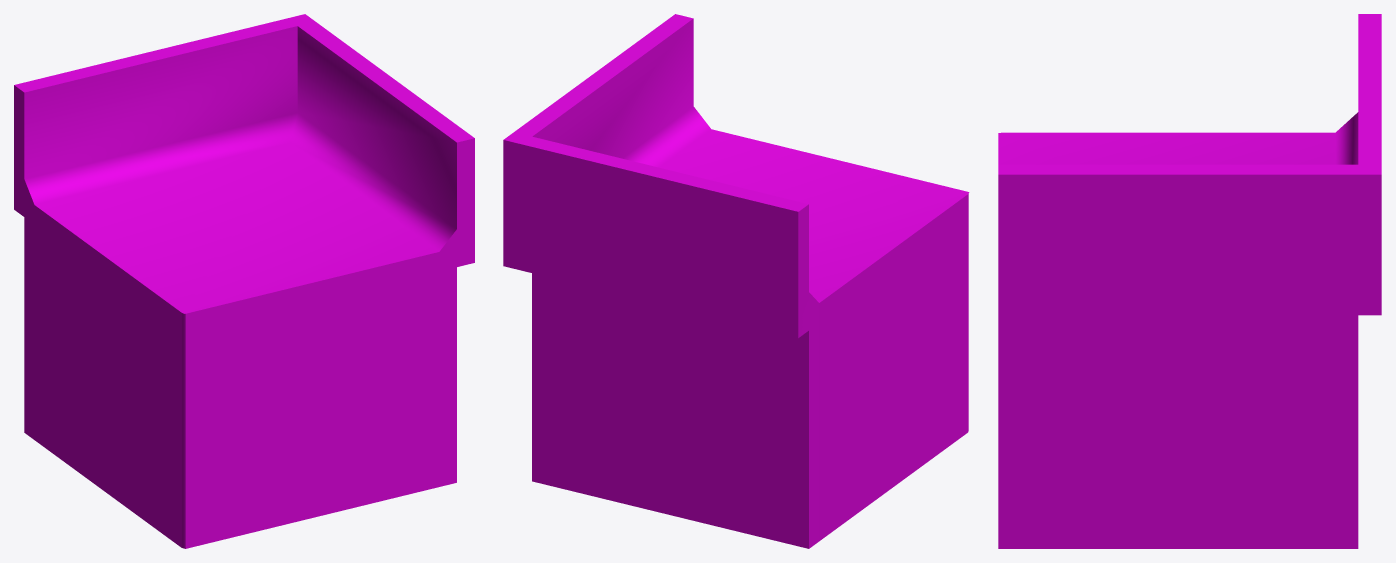
The model's file is Banco_Angolo.fbx.
3 views of the same model, side by side, from view 1: azimuth 30°, elevation 25°; view 2: azimuth 150°, elevation 25°; view 3: azimuth 270°, elevation 25° (orthographic). The views are drawn at different scales.
Parts seen in each view (by area): view 1: Banco_Angolo; view 2: Banco_Angolo; view 3: Banco_Angolo.
Boxes of the visible parts, bbox=[...] form: Banco_Angolo: bbox=[14, 14, 474, 548]; Banco_Angolo: bbox=[503, 14, 969, 548]; Banco_Angolo: bbox=[998, 14, 1381, 548].
Size of the model in its own units: 99.06 by 111 by 100.
